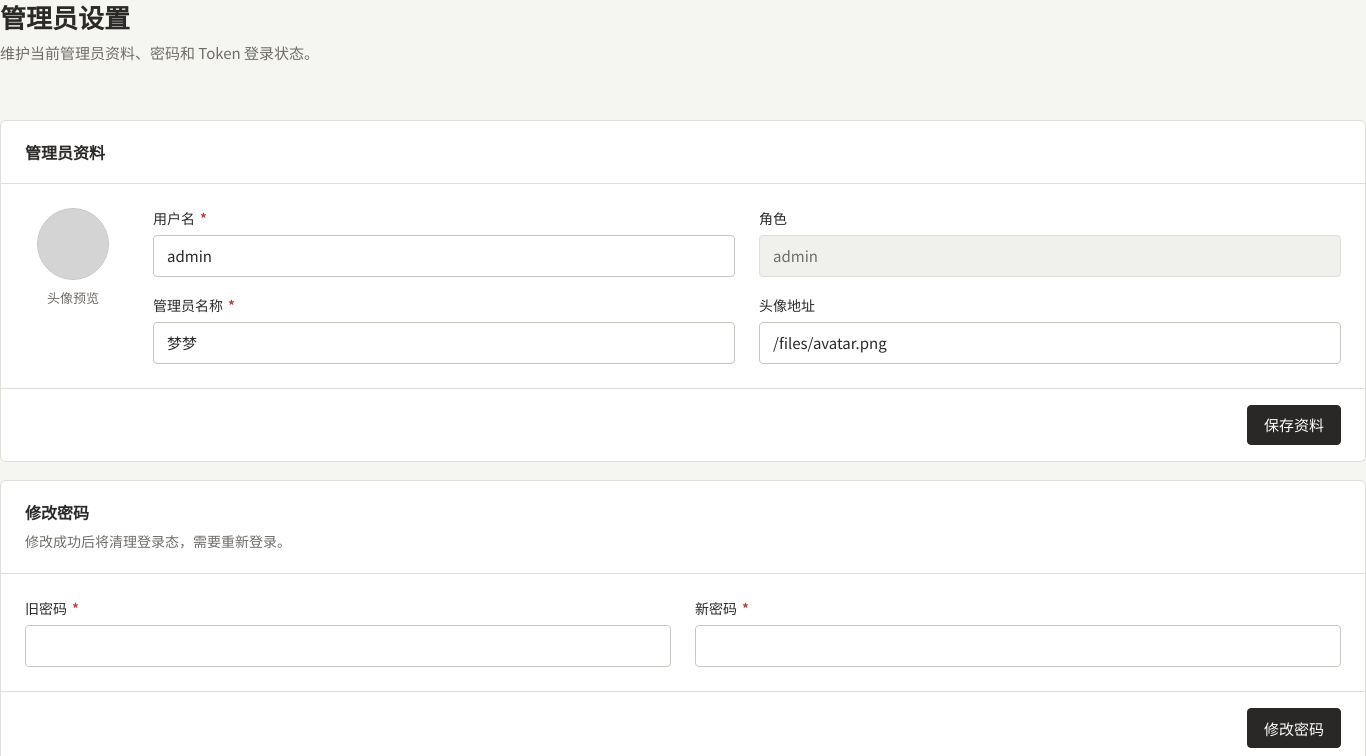
Test case: 管理员设置页 › 保存管理员资料成功后应更新 currentUser
Replace the text in the field labelled "用户名 *" with "xinmengqaq" at coordinates (444, 256), box [154,236,734,276]
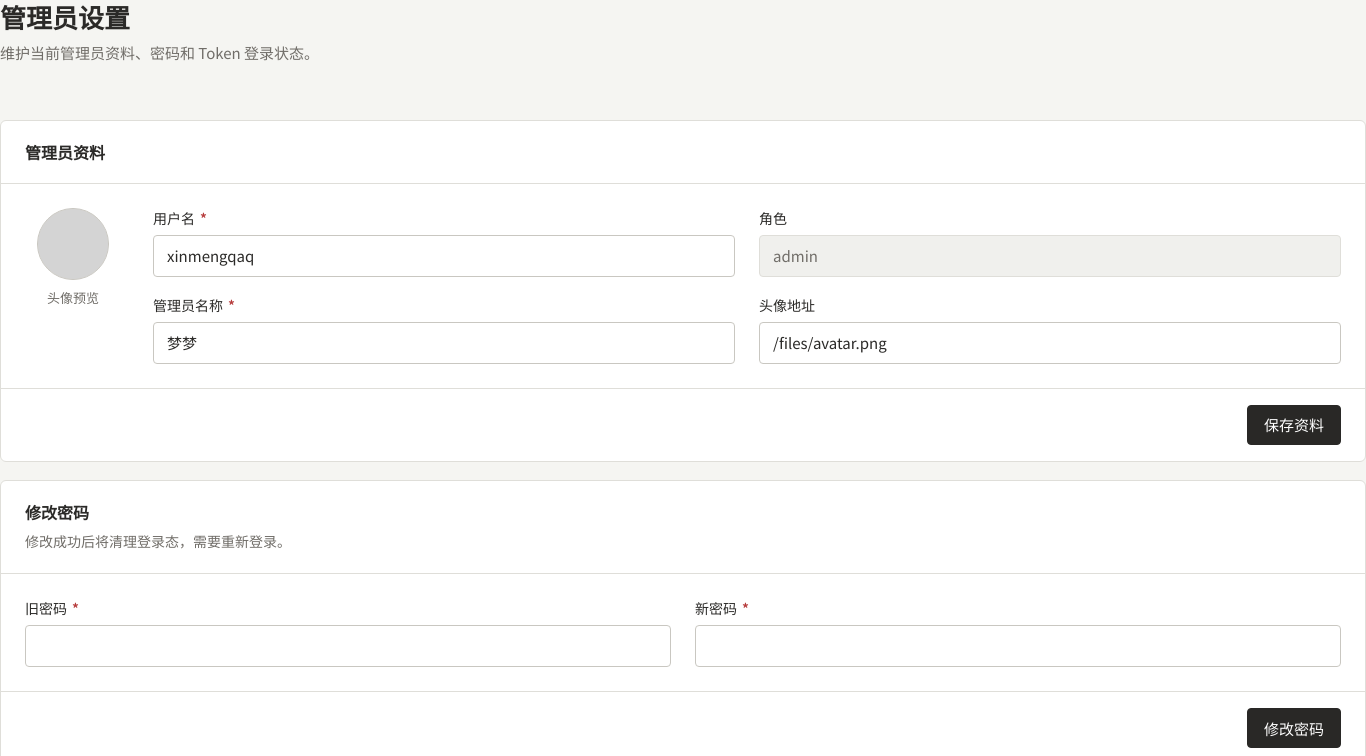
Replace the text in the field showing "梦梦" with "新梦梦" at coordinates (444, 343), box [154,323,734,363]
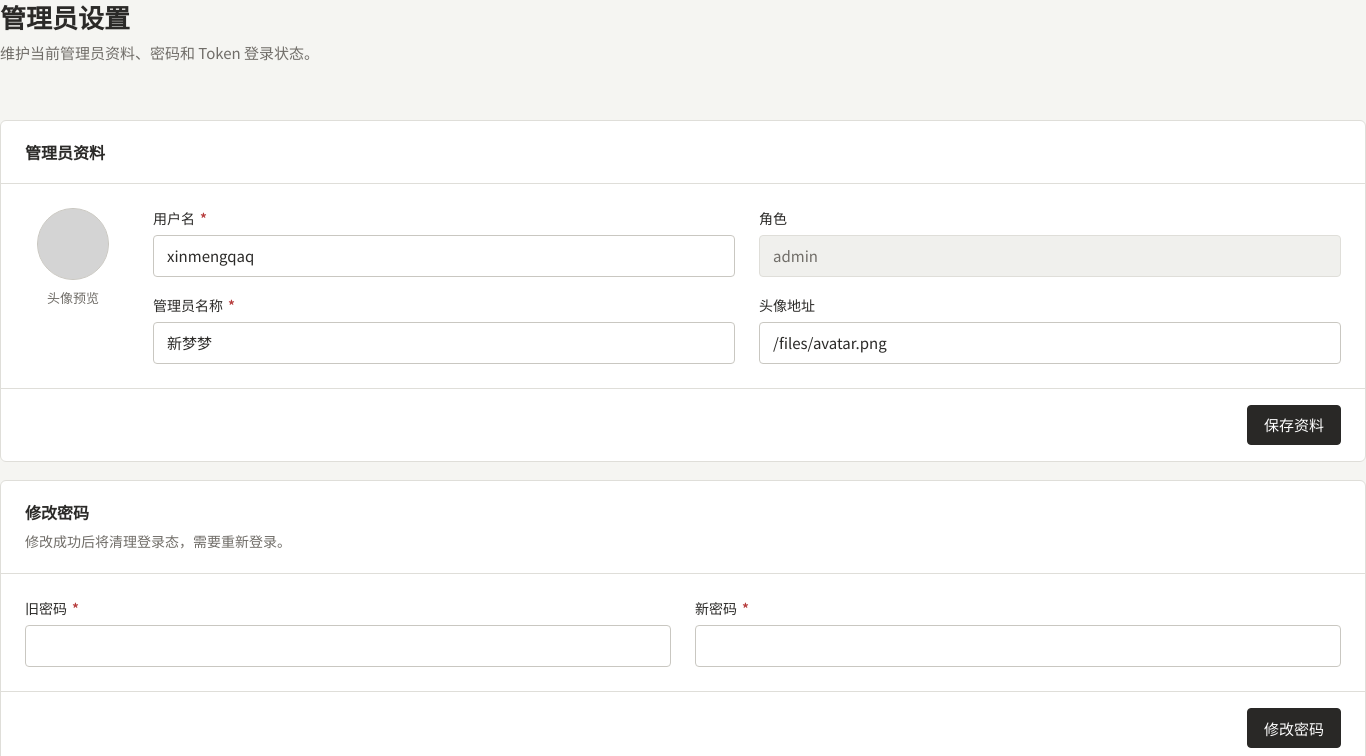
Replace the text in the field labelled "头像地址" with "/files/new.png" at coordinates (1050, 343), box [760,323,1340,363]
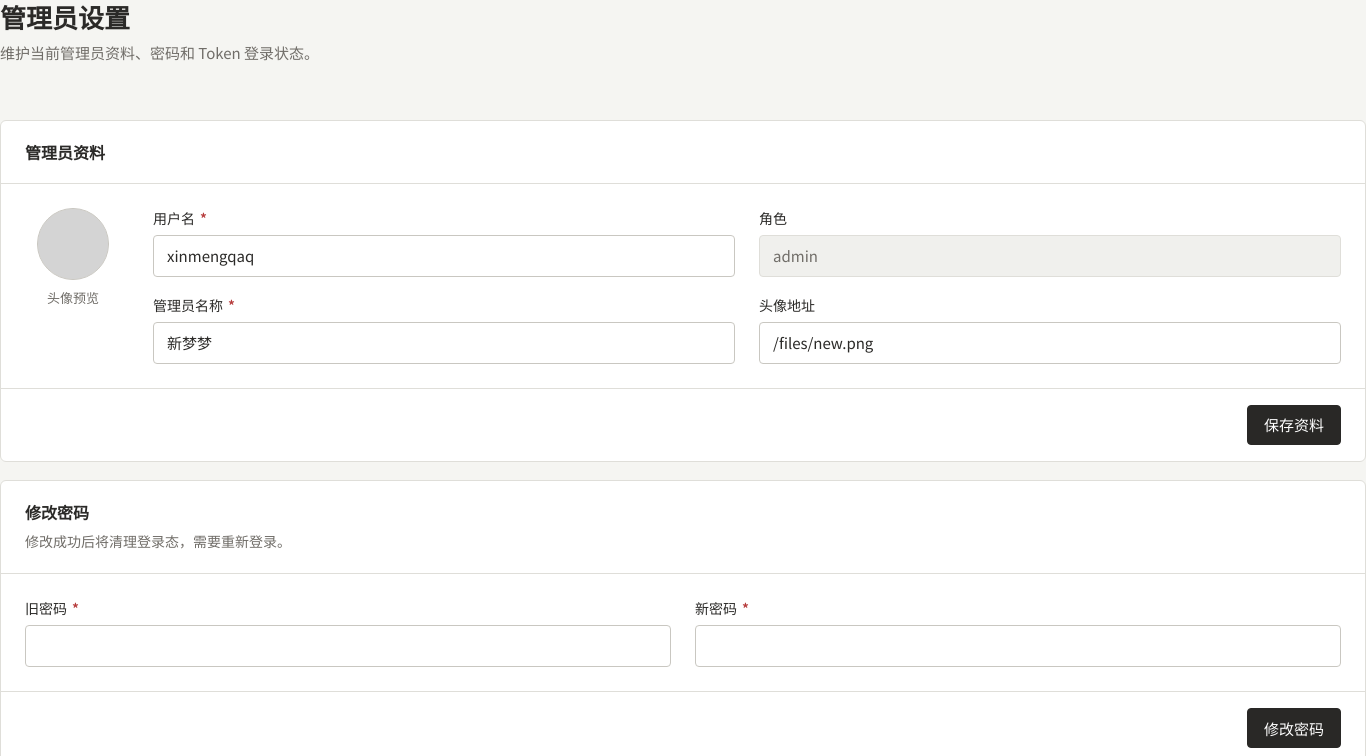
Click the button "保存资料" at coordinates (1294, 425), box [1247,405,1341,445]
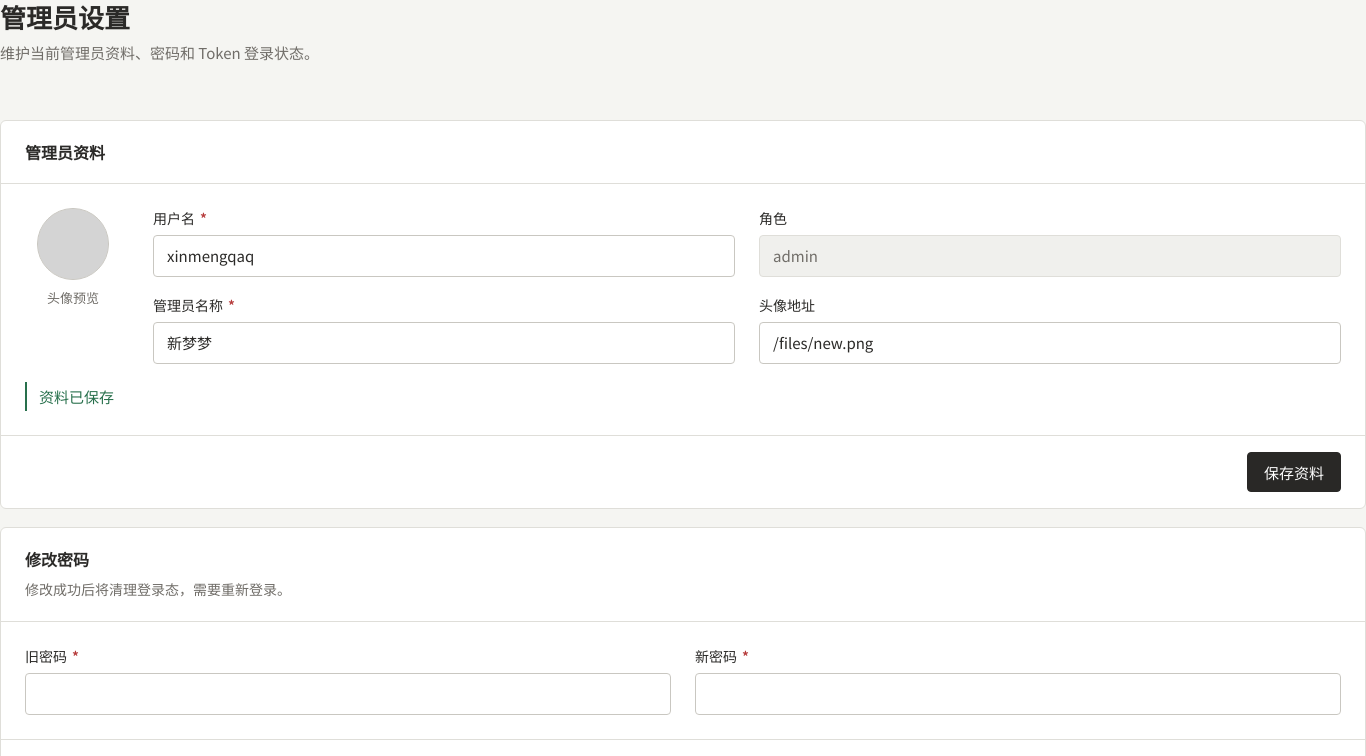
Now the text "资料已保存" is shown, box [39,386,114,407]
